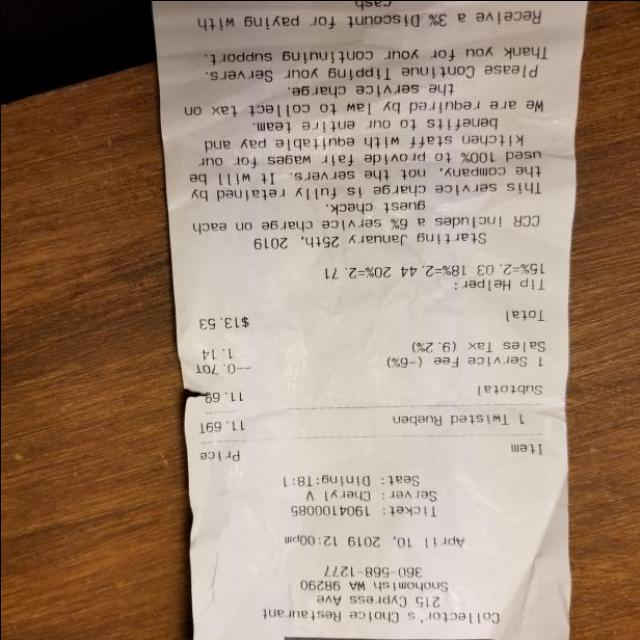kertas: (152, 0, 588, 640)
